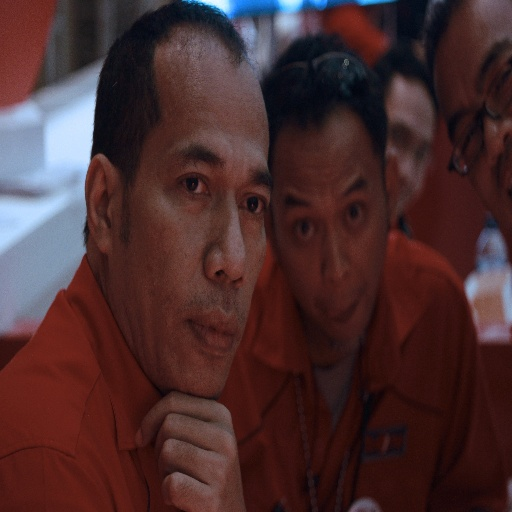hand: (130, 391, 244, 509)
